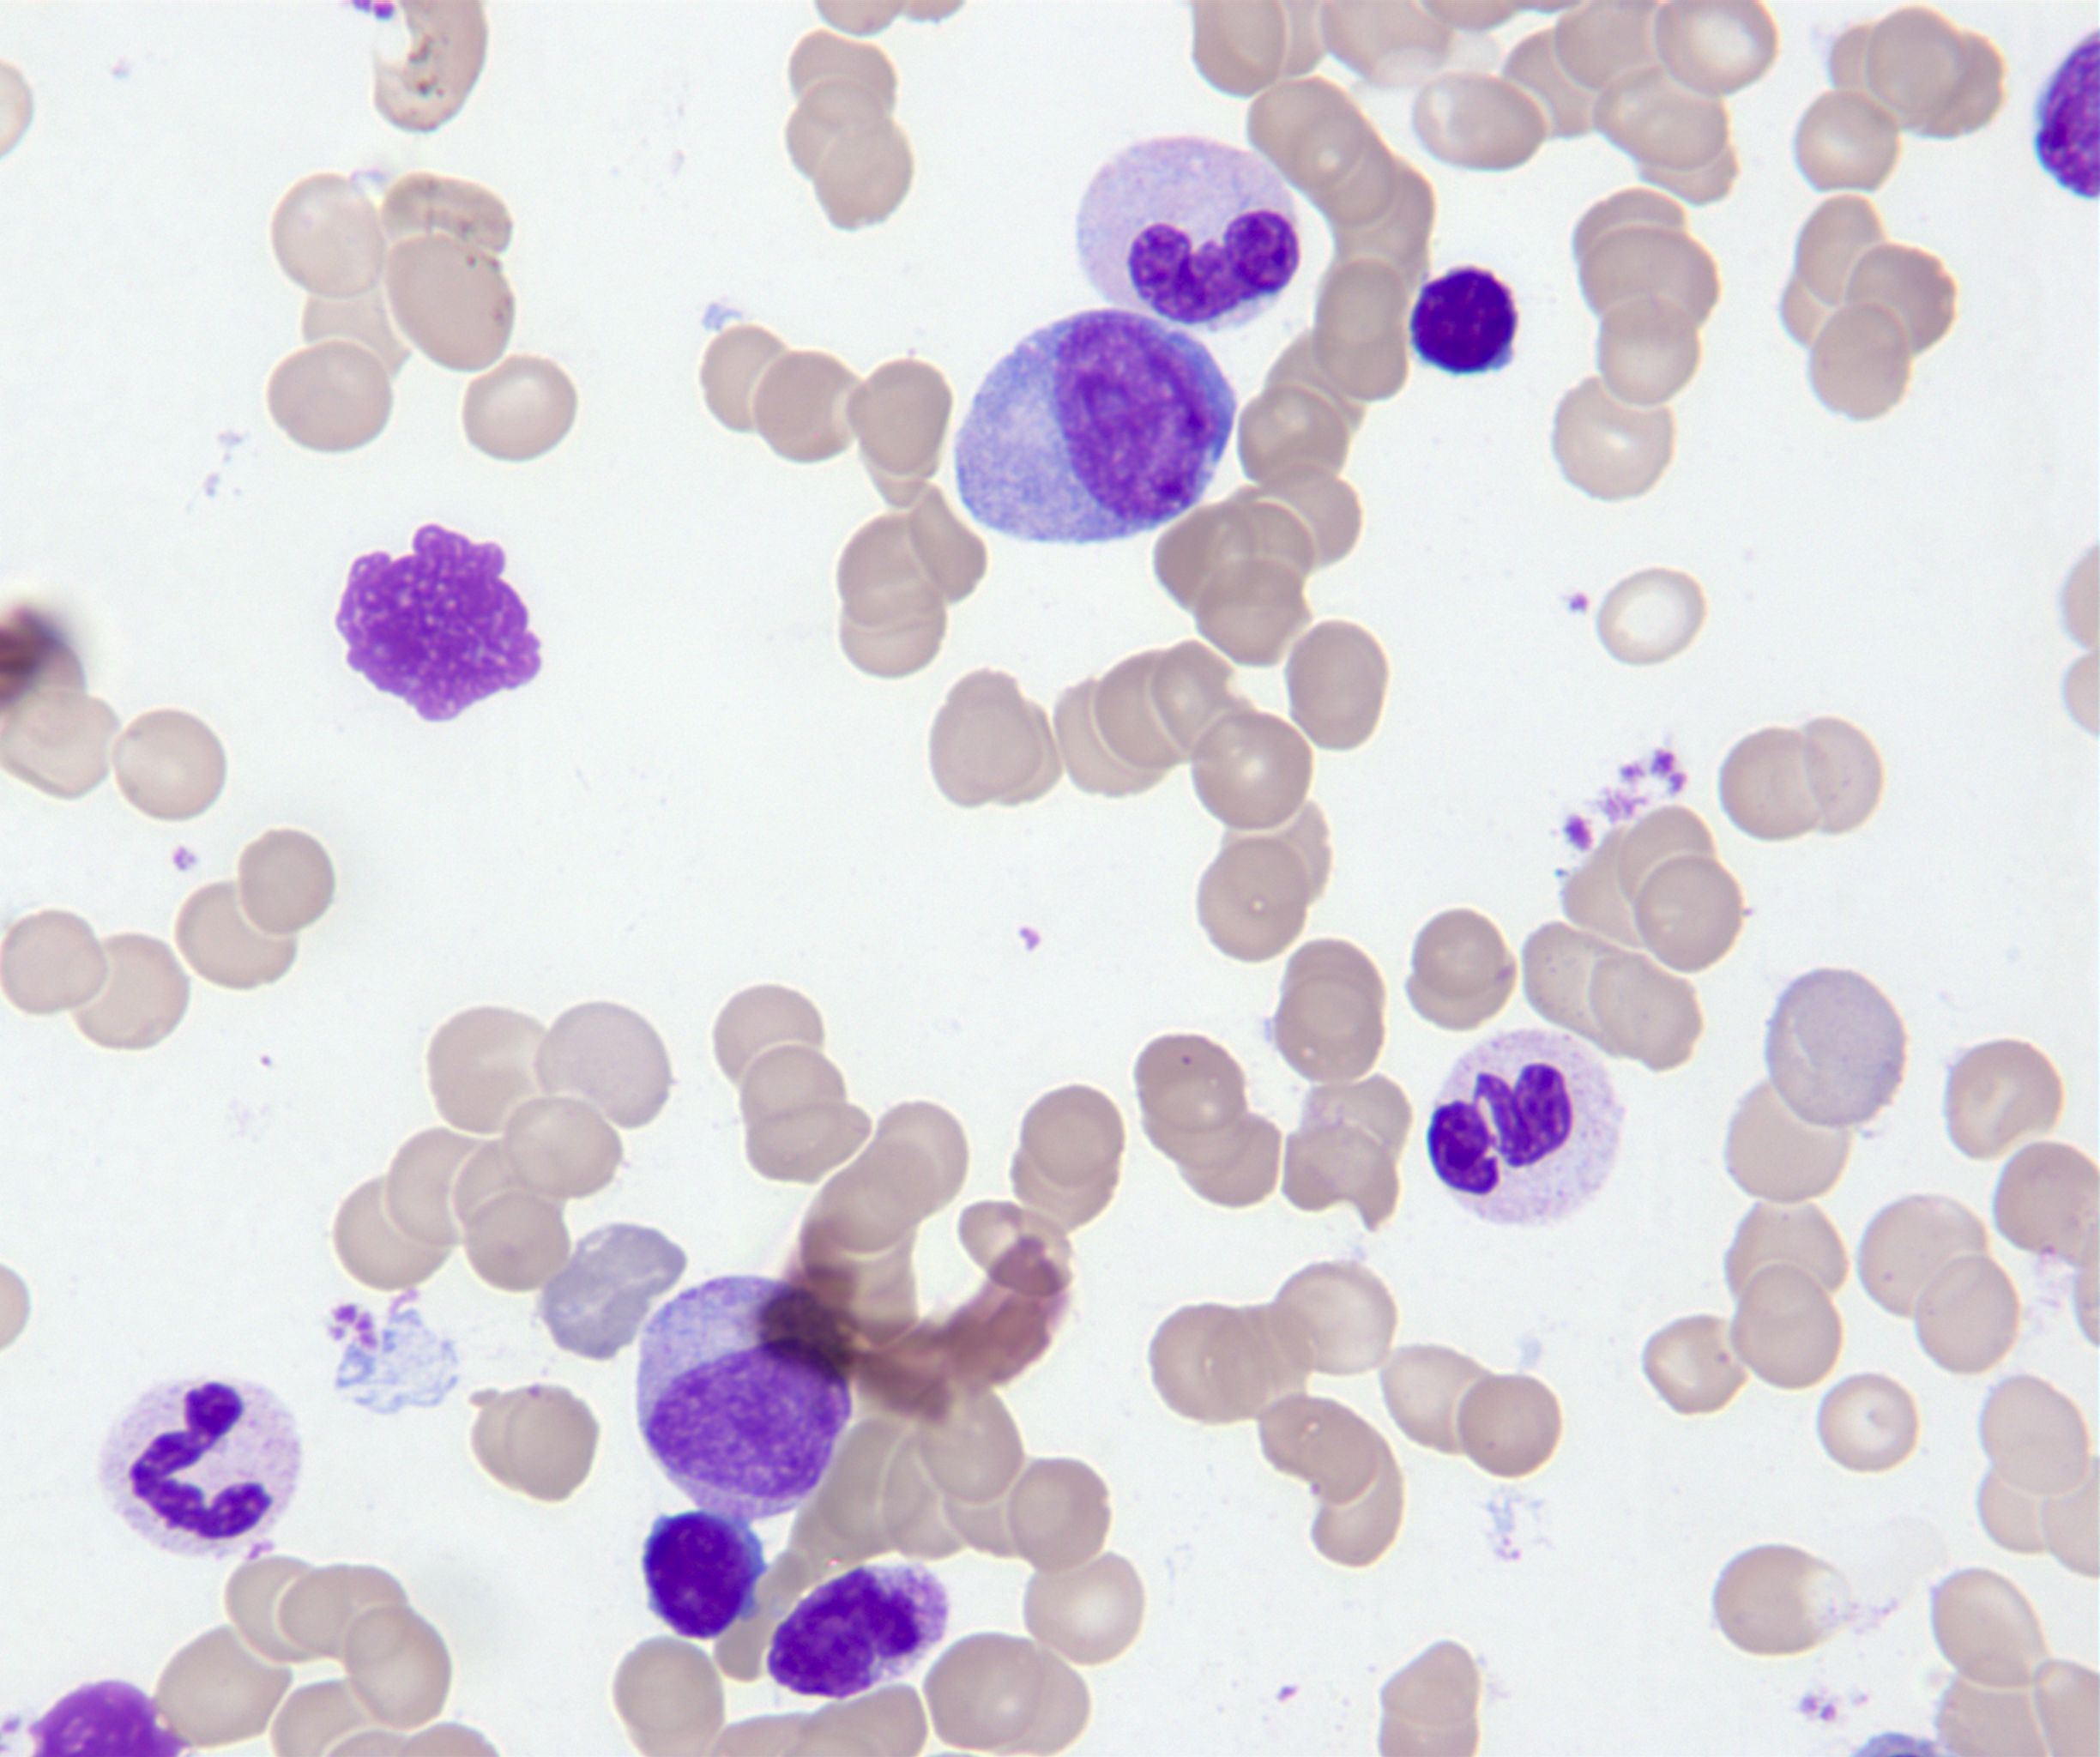3: (956, 311, 1235, 541), (635, 1275, 851, 1521)
32: (644, 1513, 767, 1638), (1409, 269, 1517, 375)
6: (1076, 138, 1301, 337), (1427, 1031, 1622, 1225), (99, 1377, 300, 1560)
x: (338, 523, 541, 724), (764, 1563, 949, 1699)
